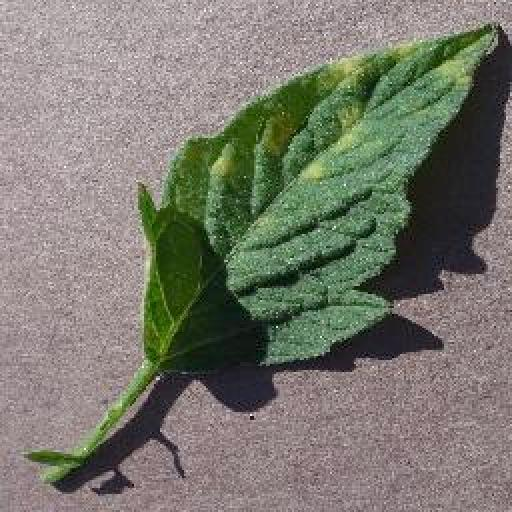disease_tomato: (135, 19, 496, 377)
